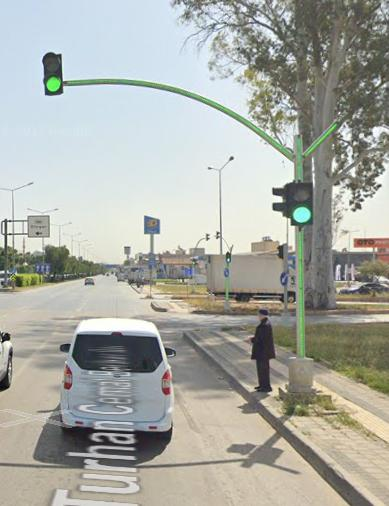greenlight: (289, 181, 313, 224), (42, 51, 64, 94)
